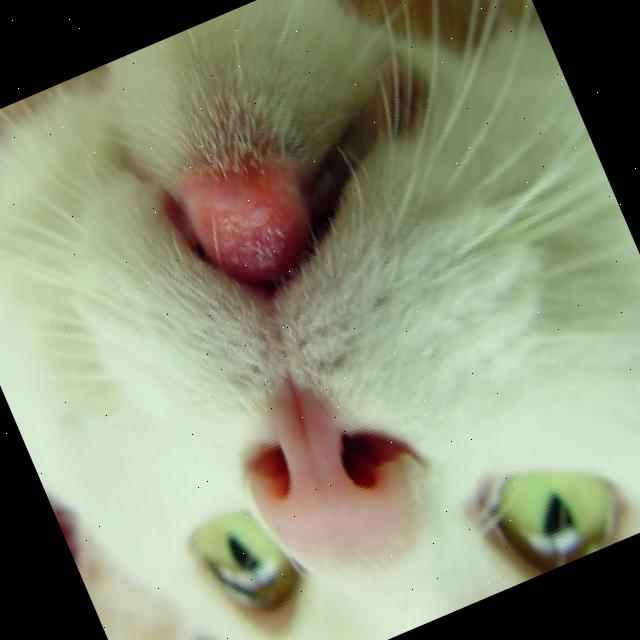cat-ulcer: (194, 165, 304, 278)
